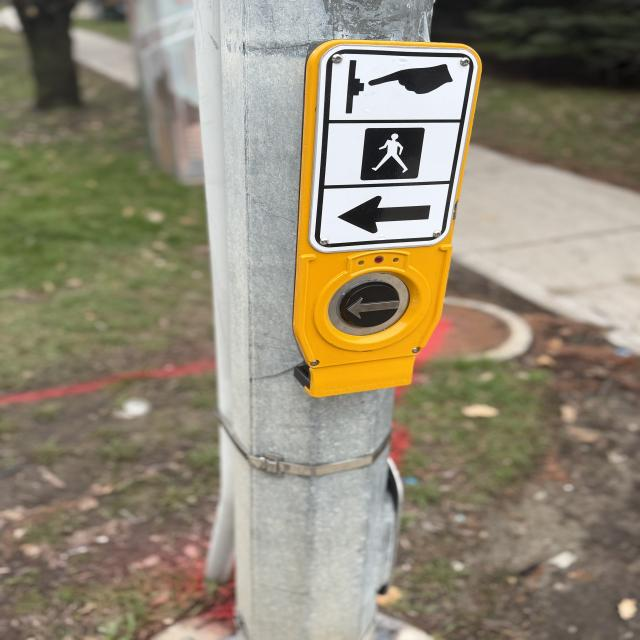Electrical Pole: (180, 4, 488, 640)
